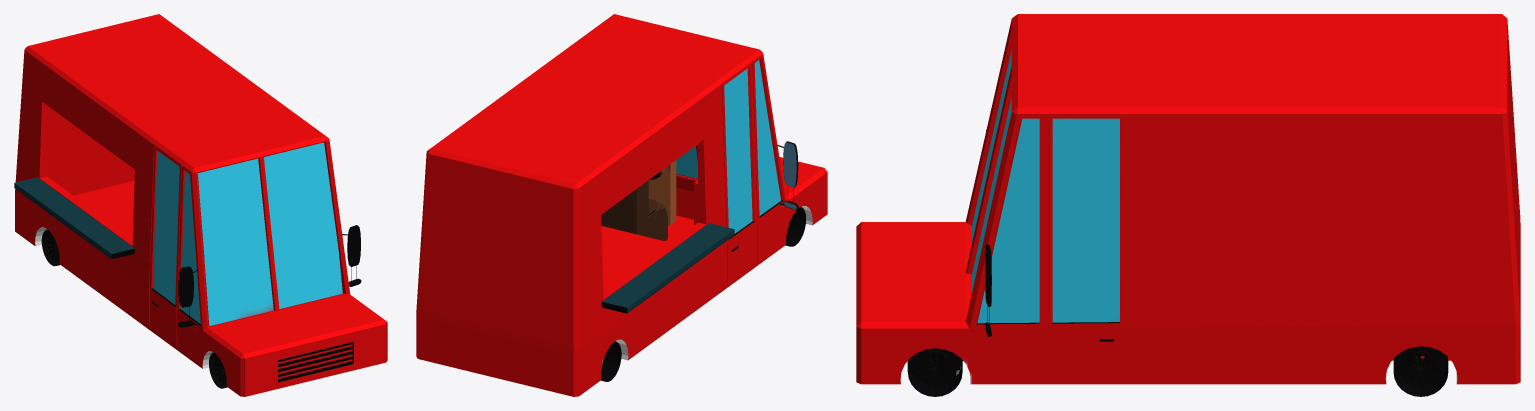
The model's file is food_truck_v3.glb.
3 renders of one model, left to right at view 1: azimuth 30°, elevation 25°; view 2: azimuth 150°, elevation 25°; view 3: azimuth 270°, elevation 25°, orthographic. The views are drawn at different scales.
Parts seen in each view (by area): view 1: FoodTruck; view 2: FoodTruck; view 3: FoodTruck.
Part boxes in pixels (bbox=[...]): FoodTruck: bbox=[14, 14, 387, 396]; FoodTruck: bbox=[416, 14, 827, 396]; FoodTruck: bbox=[856, 14, 1520, 396].
Bounding box in the file's own units: 3.78 × 3.81 × 8.
2 materials, 2 textured.
